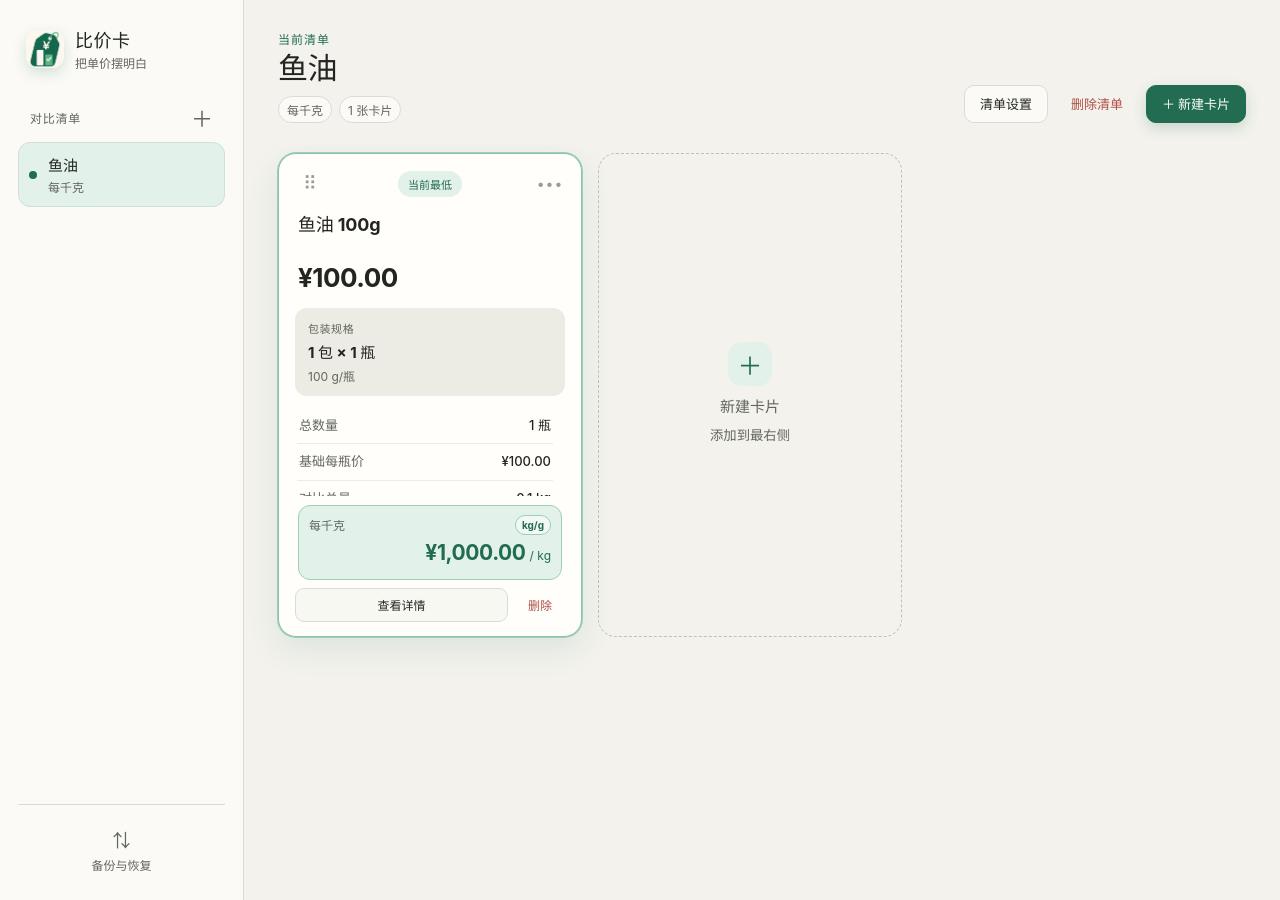
Test: App › 重量单价可以点击在 kg 和 g 之间切换展示
Expected: the heading "鱼油 100g" is shown, 298,214 -> 380,235
Expected: the text "每千克" below "对比清单" is shown, 48,180 -> 84,195
Click the button with aria-label "切换 kg/g 显示" at [533, 525], box 515,515 -> 551,535
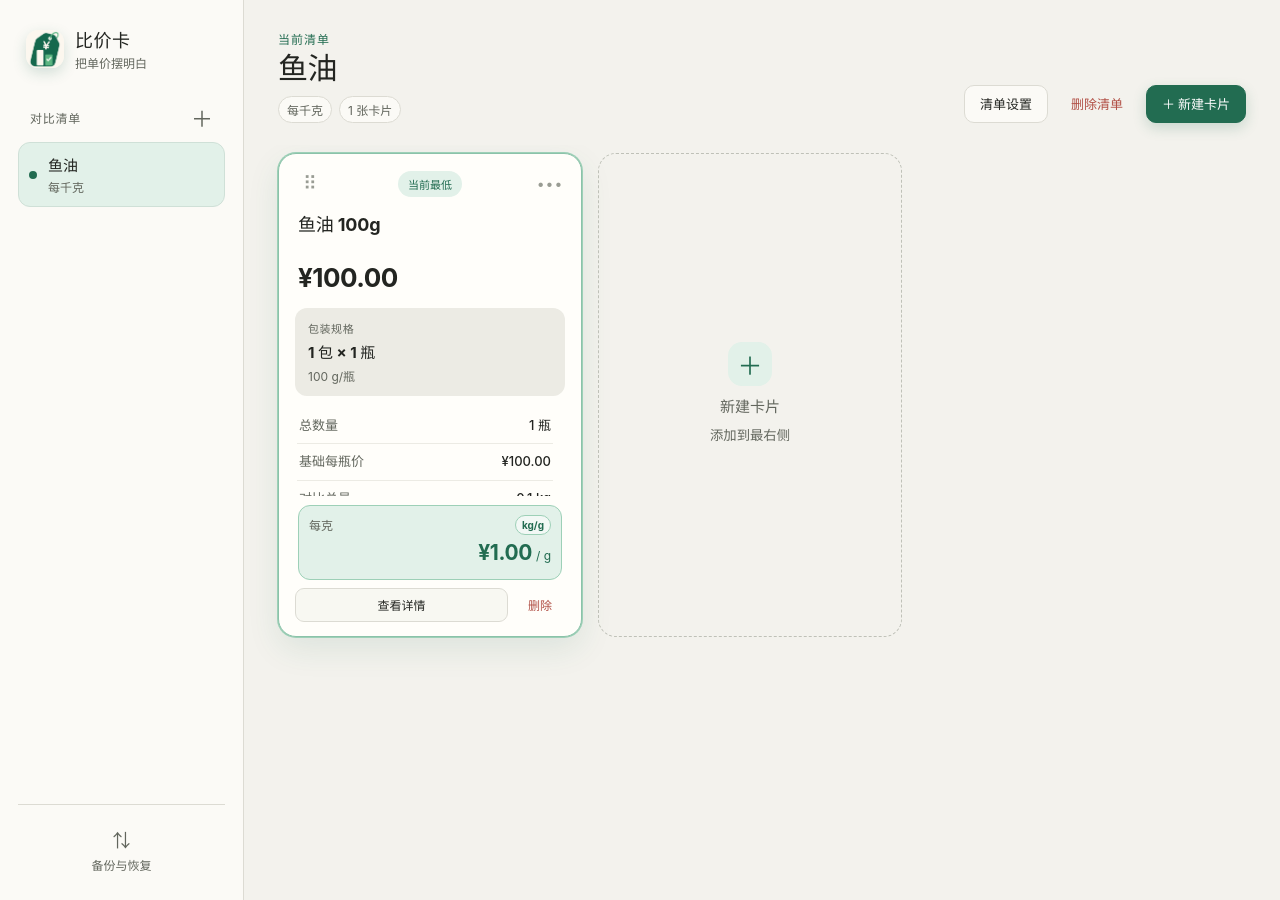
Expected: the text "¥1.00" is shown, 478,540 -> 532,565
Expected: the text "每克" is shown, 309,518 -> 333,533
Expected: the text "/ g" is shown, 536,548 -> 551,563
